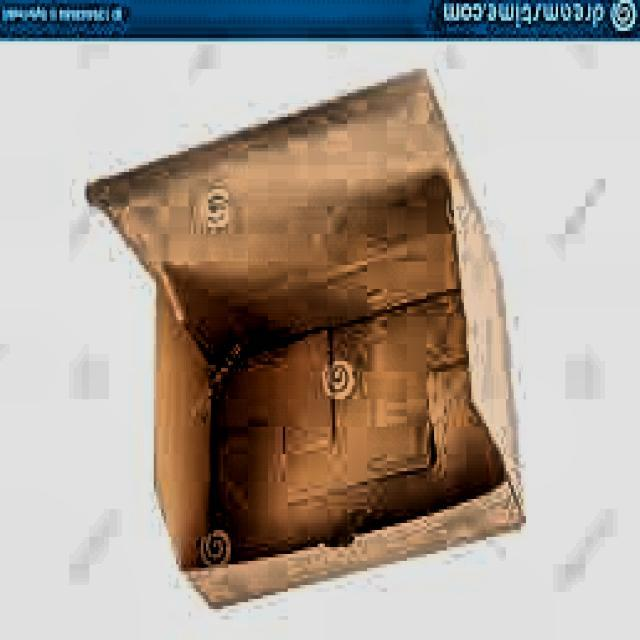cardboard: (86, 72, 528, 616)
